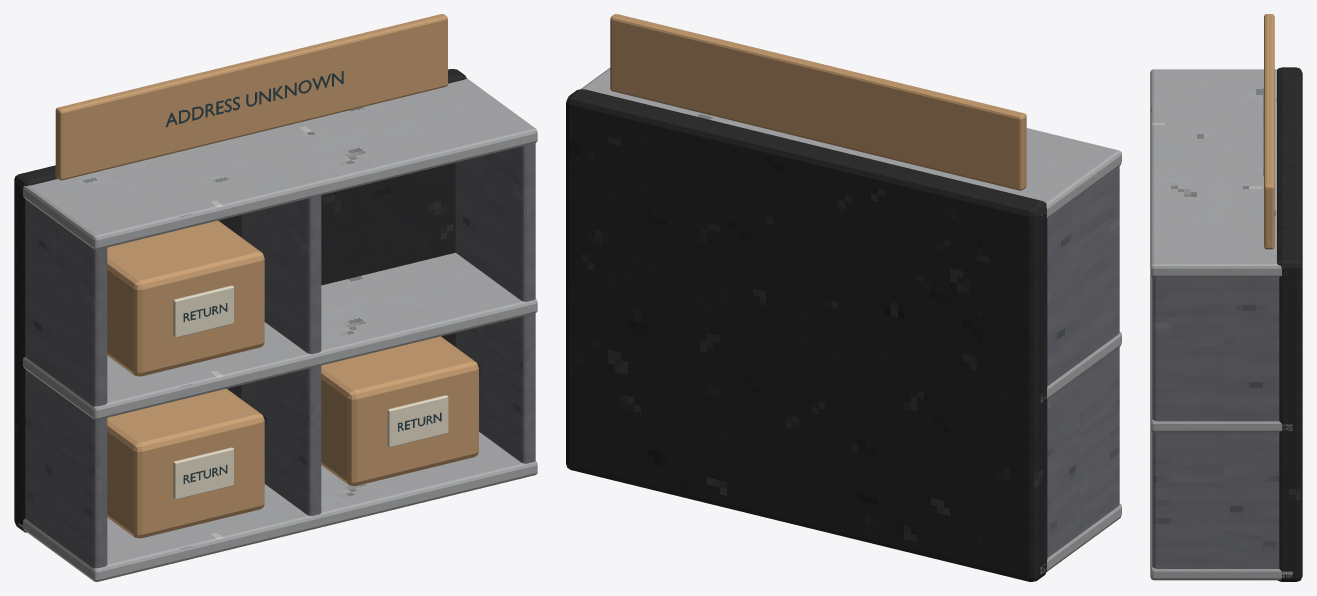
Rendered from lbd_cargo_return_cubbies.glb.
3 renders of one model, left to right at view 1: azimuth 30°, elevation 25°; view 2: azimuth 150°, elevation 25°; view 3: azimuth 270°, elevation 25°, orthographic. The views are drawn at different scales.
Parts seen in each view (by area): view 1: cargo_return_cubbies__shelf_037, cargo_return_cubbies__header_067, cargo_return_cubbies__divider_022, cargo_return_cubbies__shelf_034, cargo_return_cubbies__divider_028, cargo_return_cubbies__returned parcel_058, cargo_return_cubbies__mount_003, cargo_return_cubbies__divider_025, cargo_return_cubbies__returned parcel_049, cargo_return_cubbies__returned parcel_040, cargo_return_cubbies__shelf_031, cargo_return_cubbies__address label_052 (+3 smaller); view 2: cargo_return_cubbies__mount_003, cargo_return_cubbies__header_067, cargo_return_cubbies__divider_022, cargo_return_cubbies__shelf_037, cargo_return_cubbies__shelf_031, cargo_return_cubbies__shelf_034; view 3: cargo_return_cubbies__divider_028, cargo_return_cubbies__shelf_037, cargo_return_cubbies__mount_003, cargo_return_cubbies__header_067, cargo_return_cubbies__shelf_034, cargo_return_cubbies__shelf_031.
Boxes of the visible parts, box(x1,y1,x2,y2) form: cargo_return_cubbies__shelf_037: box(23, 78, 537, 249); cargo_return_cubbies__header_067: box(55, 14, 447, 180); cargo_return_cubbies__divider_022: box(25, 199, 107, 568); cargo_return_cubbies__shelf_034: box(20, 252, 537, 419); cargo_return_cubbies__divider_028: box(455, 143, 535, 463); cargo_return_cubbies__returned parcel_058: box(107, 220, 264, 376); cargo_return_cubbies__mount_003: box(14, 69, 466, 532); cargo_return_cubbies__divider_025: box(241, 195, 321, 515); cargo_return_cubbies__returned parcel_049: box(321, 336, 478, 485); cargo_return_cubbies__returned parcel_040: box(107, 388, 264, 538); cargo_return_cubbies__shelf_031: box(17, 432, 537, 581); cargo_return_cubbies__address label_052: box(387, 395, 448, 447); cargo_return_cubbies__mount_003: box(566, 89, 1047, 581); cargo_return_cubbies__header_067: box(610, 14, 1026, 190); cargo_return_cubbies__divider_022: box(1047, 166, 1119, 557); cargo_return_cubbies__shelf_037: box(581, 67, 1121, 218); cargo_return_cubbies__shelf_031: box(1040, 503, 1121, 574); cargo_return_cubbies__shelf_034: box(1041, 332, 1121, 402); cargo_return_cubbies__divider_028: box(1152, 277, 1279, 568); cargo_return_cubbies__shelf_037: box(1150, 69, 1281, 277); cargo_return_cubbies__mount_003: box(1277, 67, 1302, 581); cargo_return_cubbies__header_067: box(1264, 14, 1274, 249); cargo_return_cubbies__shelf_034: box(1150, 275, 1292, 432); cargo_return_cubbies__shelf_031: box(1150, 430, 1292, 580).
Size of the model in its own units: 1.12 by 1.02 by 0.365.
6 materials, 3 textured.
